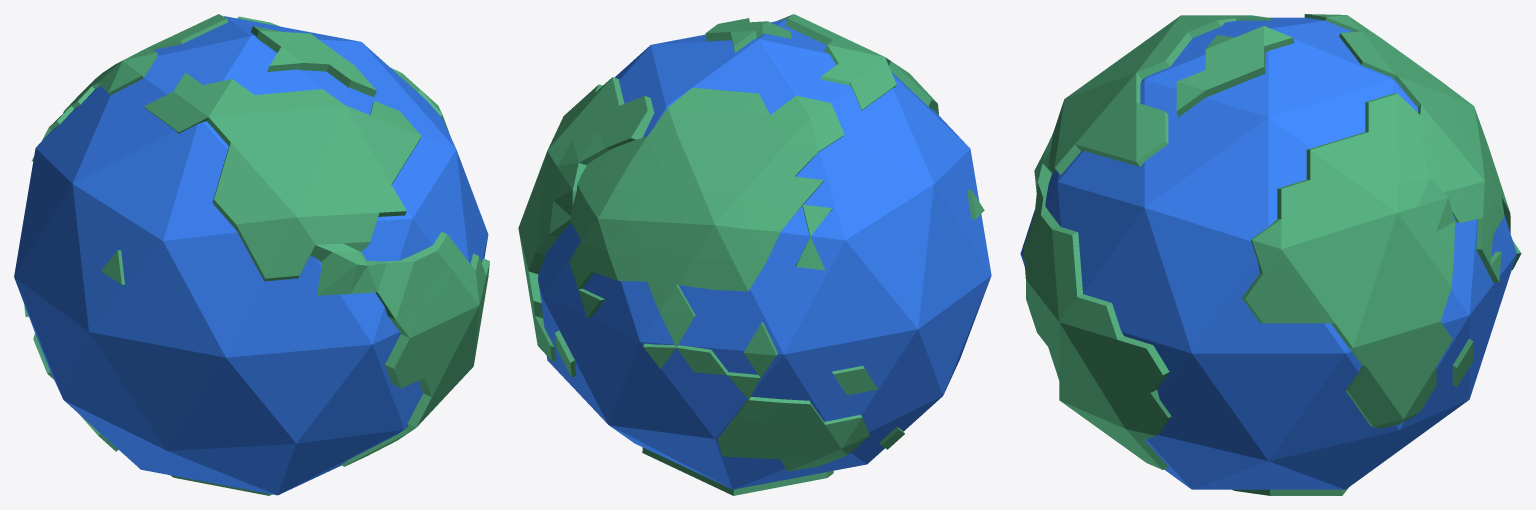
File: earth.glb
3 renders of one model, left to right at view 1: azimuth 30°, elevation 25°; view 2: azimuth 150°, elevation 25°; view 3: azimuth 270°, elevation 25°, orthographic. The views are drawn at different scales.
Parts seen in each view (by area): view 1: Icosphere.001, Icosphere; view 2: Icosphere.001, Icosphere; view 3: Icosphere.001, Icosphere.
Part boxes in pixels (<box>): Icosphere.001: <box>14,16,488,495</box>; Icosphere: <box>24,14,489,495</box>; Icosphere.001: <box>538,19,991,489</box>; Icosphere: <box>518,14,984,495</box>; Icosphere.001: <box>1020,17,1516,489</box>; Icosphere: <box>1023,14,1521,495</box>.
Size of the model in its own units: 1.87 by 1.99 by 1.96.
